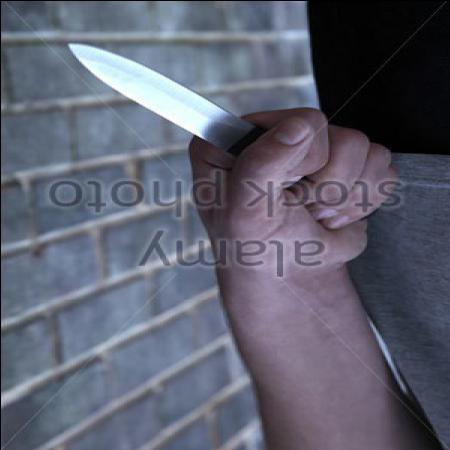long weapon: (61, 40, 383, 232)
